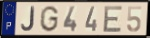4: (62, 5, 78, 33), (84, 6, 98, 32)
5: (126, 5, 143, 33)
E: (102, 4, 124, 33)
G: (39, 5, 60, 33)
J: (20, 6, 36, 32)
